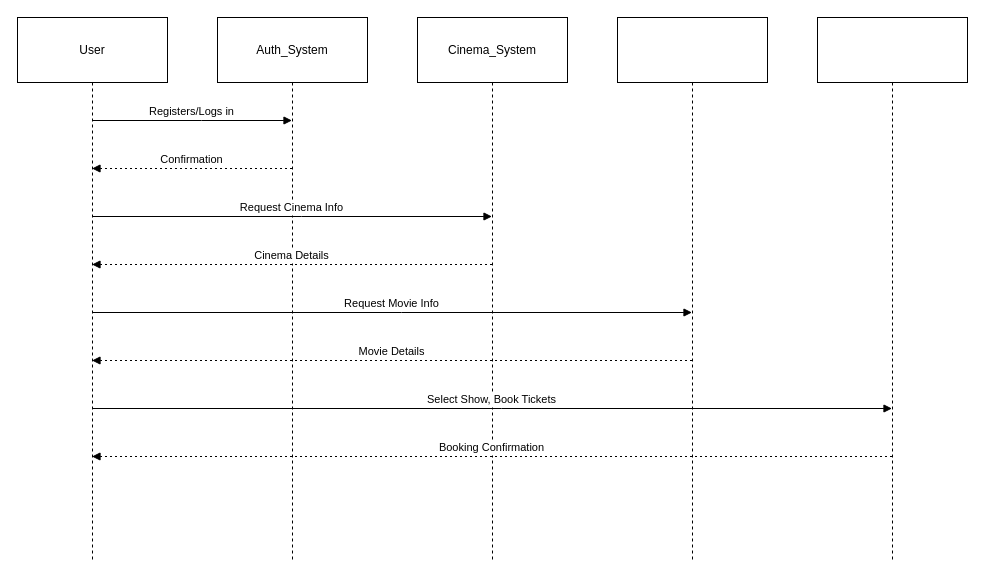
Some shapes in this 985 by 579 pixel diagram are drawn without their labels. Here are the shapes that lost their labels. From the top down, the box of each, then its label:
(616, 16, 768, 562): Movie_System
(816, 16, 968, 562): Booking_System
